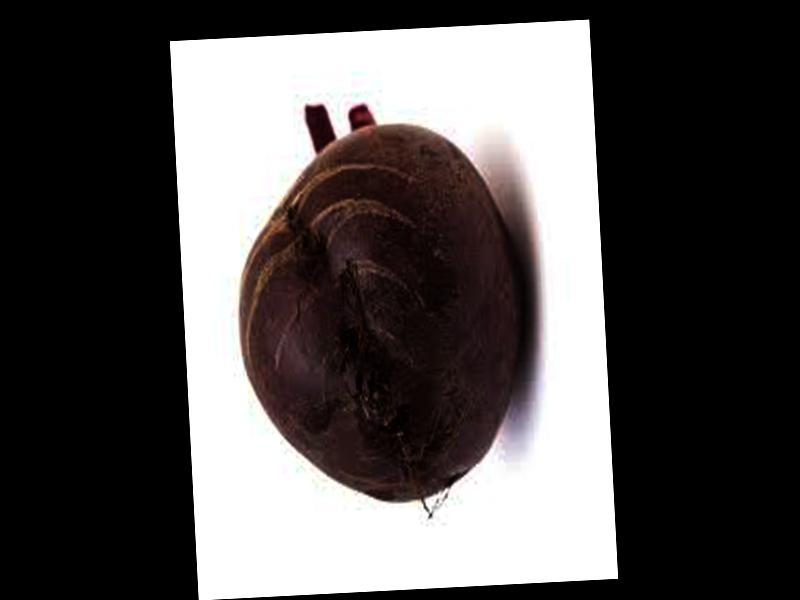Beet: (226, 98, 537, 511)
